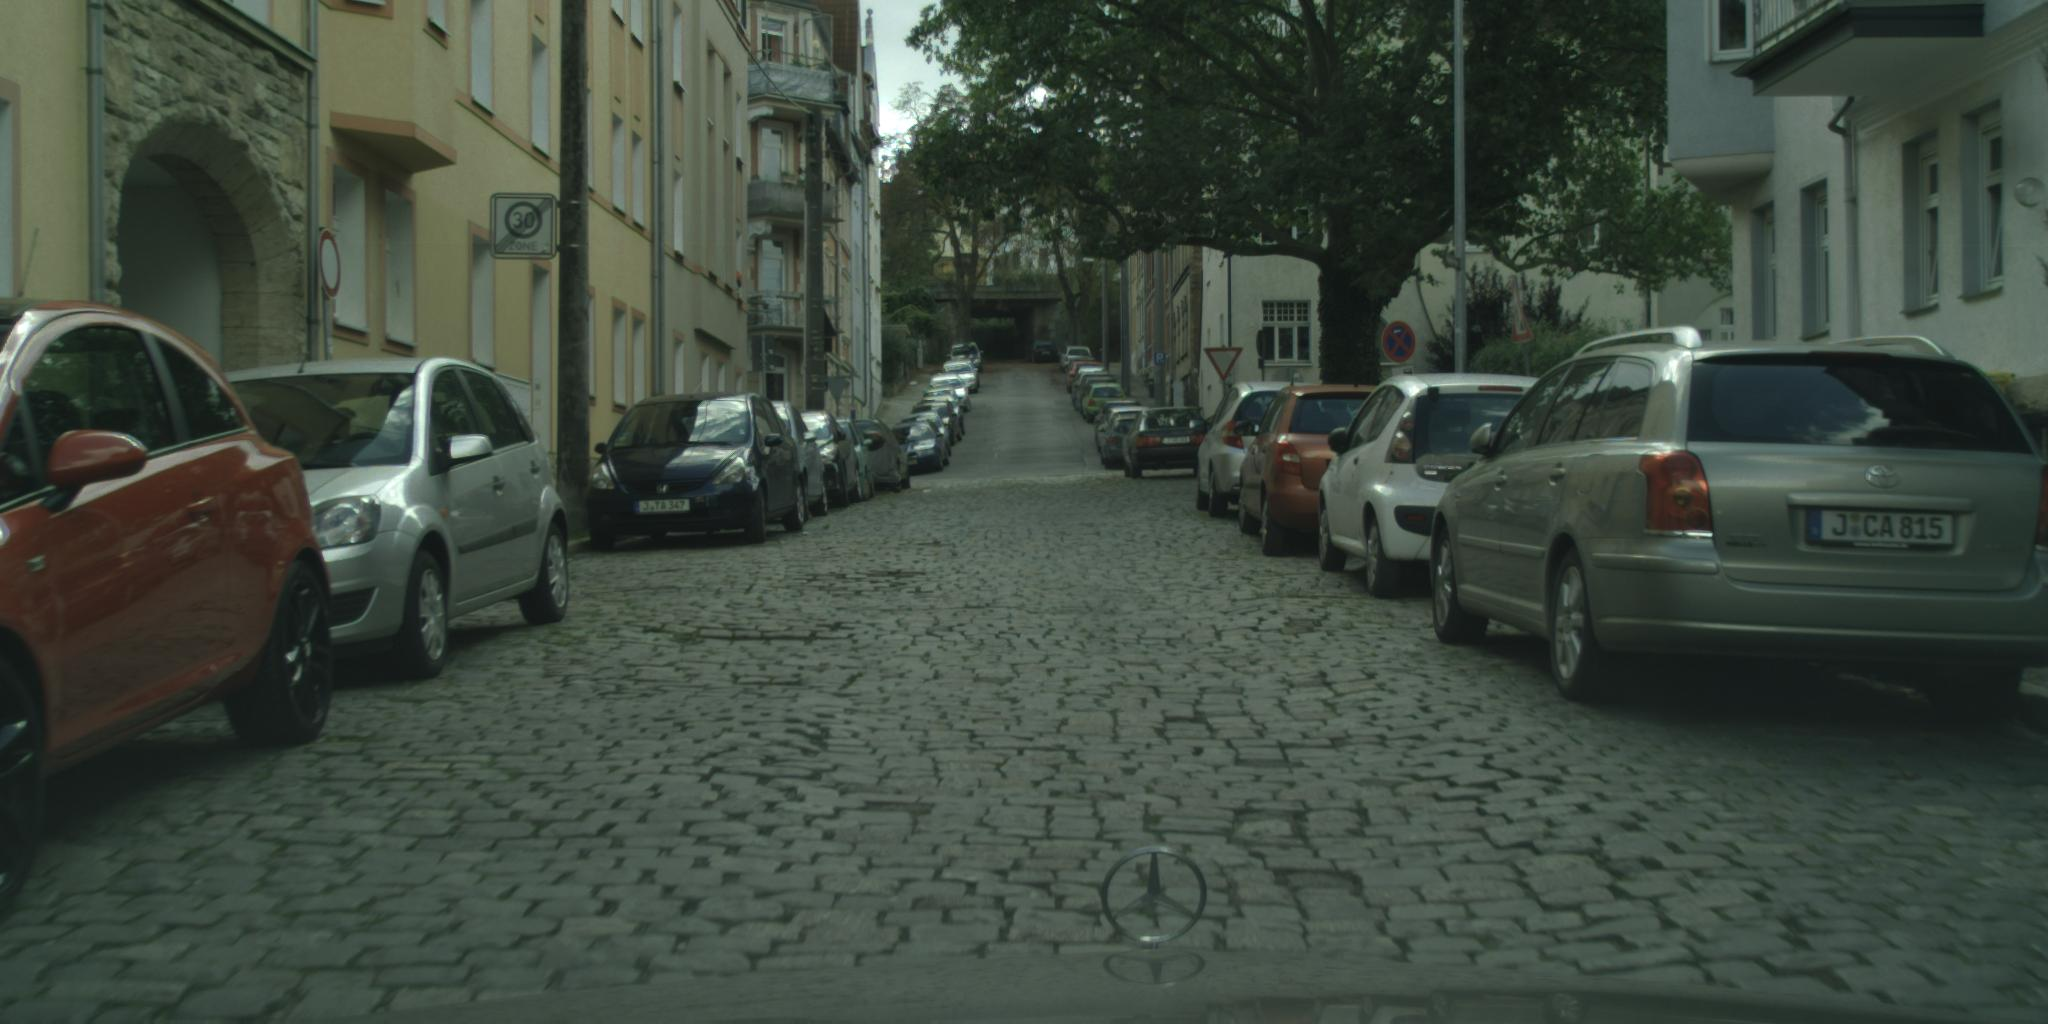car: (1428, 325, 2048, 720), (1, 229, 334, 862), (222, 351, 572, 683), (1315, 374, 1573, 600), (586, 392, 807, 554), (1232, 384, 1388, 560), (1187, 380, 1320, 522), (765, 400, 829, 522), (1115, 405, 1211, 486), (799, 411, 859, 509), (848, 421, 913, 492), (892, 415, 950, 474), (835, 418, 874, 504), (1097, 408, 1147, 472), (899, 411, 953, 458), (920, 387, 968, 435), (912, 402, 963, 447), (1081, 383, 1128, 424), (930, 375, 973, 414), (1093, 401, 1142, 434), (942, 362, 984, 394), (1066, 360, 1105, 393), (1059, 347, 1093, 372), (953, 342, 984, 368), (1031, 344, 1061, 362)
